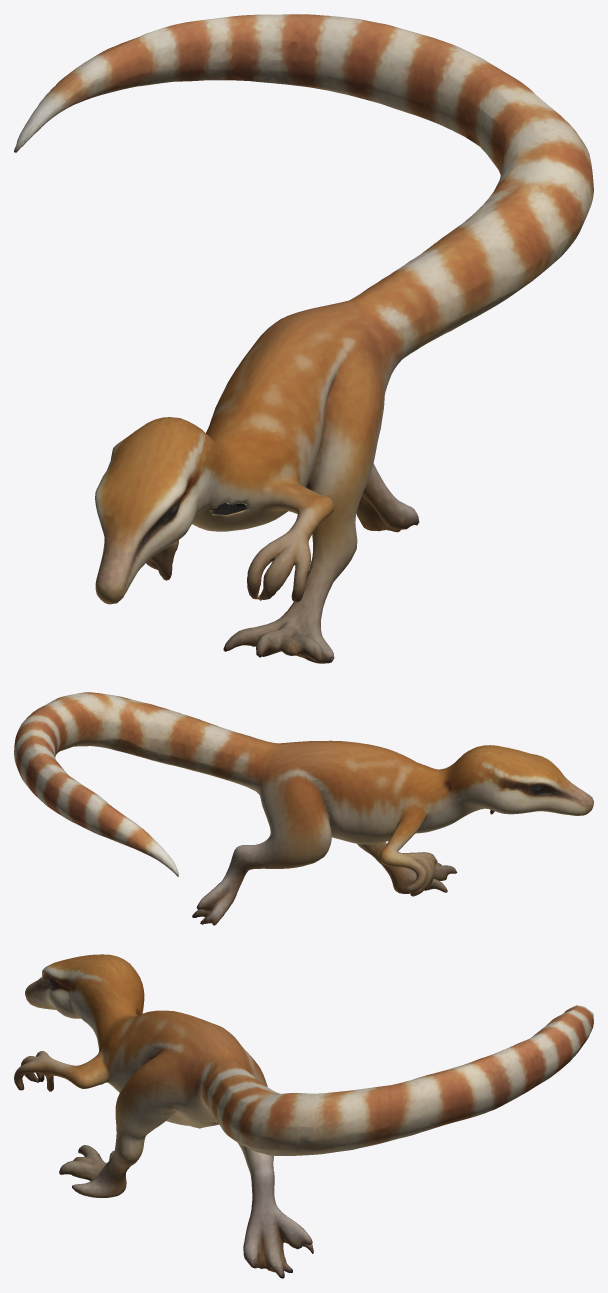
The picture shows the model from 3 angles, top to bottom: view 1: azimuth 30°, elevation 25°; view 2: azimuth 150°, elevation 25°; view 3: azimuth 270°, elevation 25°; orthographic projection. The views are drawn at different scales.
Parts seen in each view (by area): view 1: world; view 2: world; view 3: world.
Part boxes in pixels (x1,y1,x2,y2): world: (14,14,593,663); world: (14,692,593,925); world: (14,954,593,1278).
Size of the model in its own units: 0.971 by 0.4972 by 1.
1 material, 1 textured.
